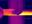Hotspot: (20, 11, 31, 16)
